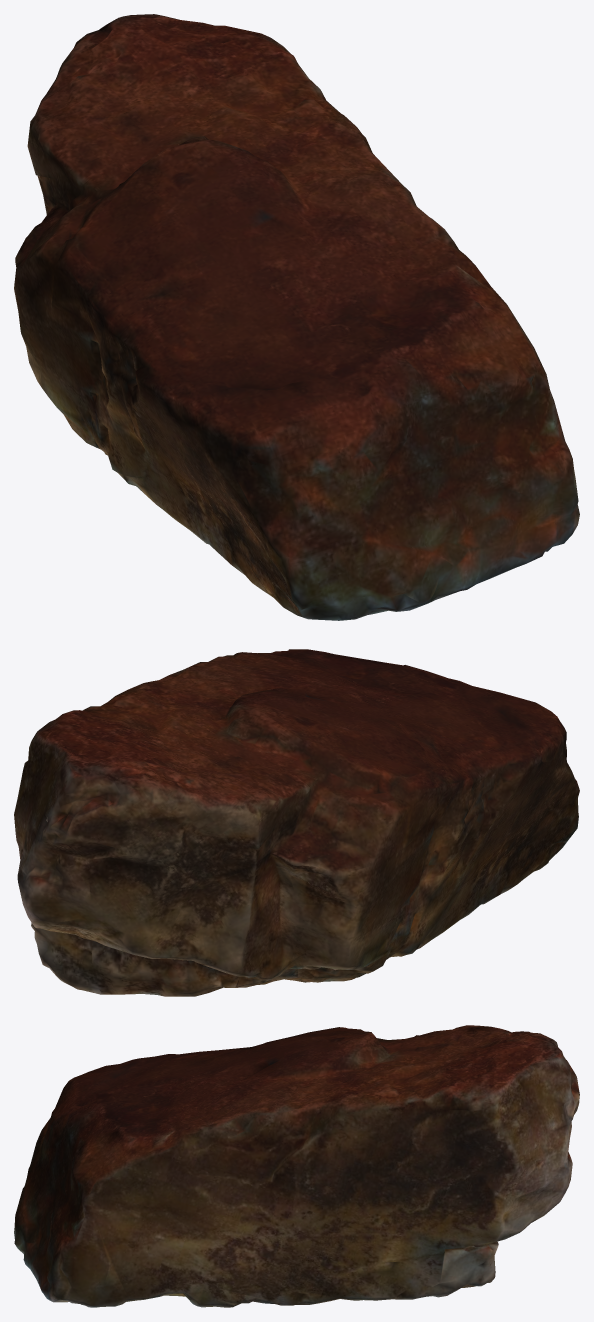
File: rock_07.glb
The picture shows the model from 3 angles, top to bottom: view 1: azimuth 30°, elevation 25°; view 2: azimuth 150°, elevation 25°; view 3: azimuth 270°, elevation 25°; orthographic projection. The views are drawn at different scales.
Parts seen in each view (by area): view 1: rock_07; view 2: rock_07; view 3: rock_07.
Boxes of the visible parts, box(x1,y1,x2,y2) form: rock_07: box(14, 14, 579, 620); rock_07: box(14, 649, 579, 996); rock_07: box(14, 1025, 579, 1307).
Bounding box in the file's own units: 0.1686 × 0.1437 × 0.3202.
Materials: 1 (1 with a texture image).
